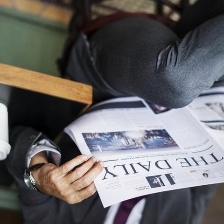news_paper: (57, 83, 224, 210)
